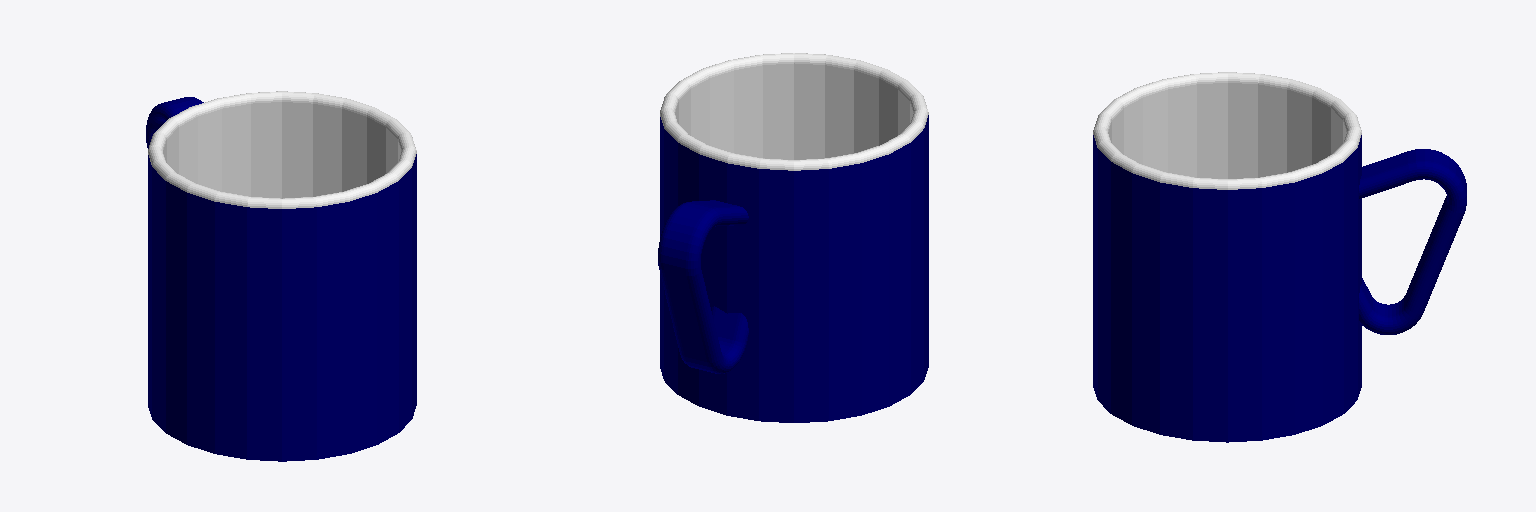
The picture shows the model from 3 angles: view 1: azimuth 30°, elevation 25°; view 2: azimuth 150°, elevation 25°; view 3: azimuth 270°, elevation 25°; orthographic projection.
Visible parts, largest first — view 1: model_normalized.011; view 2: model_normalized.011; view 3: model_normalized.011.
Boxes of the visible parts, box(x1,y1,x2,y2) form: model_normalized.011: box(146, 91, 416, 461); model_normalized.011: box(658, 53, 928, 422); model_normalized.011: box(1093, 72, 1466, 442).
Size of the model in its own units: 0.4962 by 0.5274 by 0.6896.